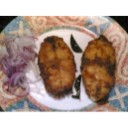seerfish: (82, 36, 115, 103), (40, 36, 76, 96)
